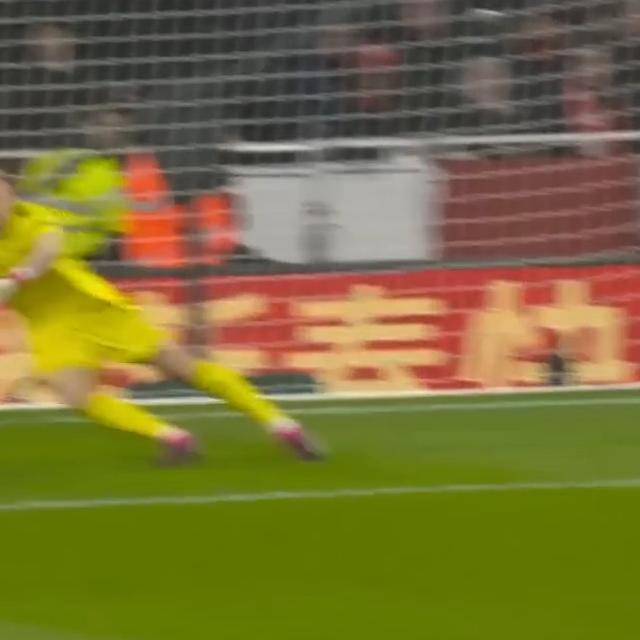goalkeeper: (0, 169, 331, 470)
